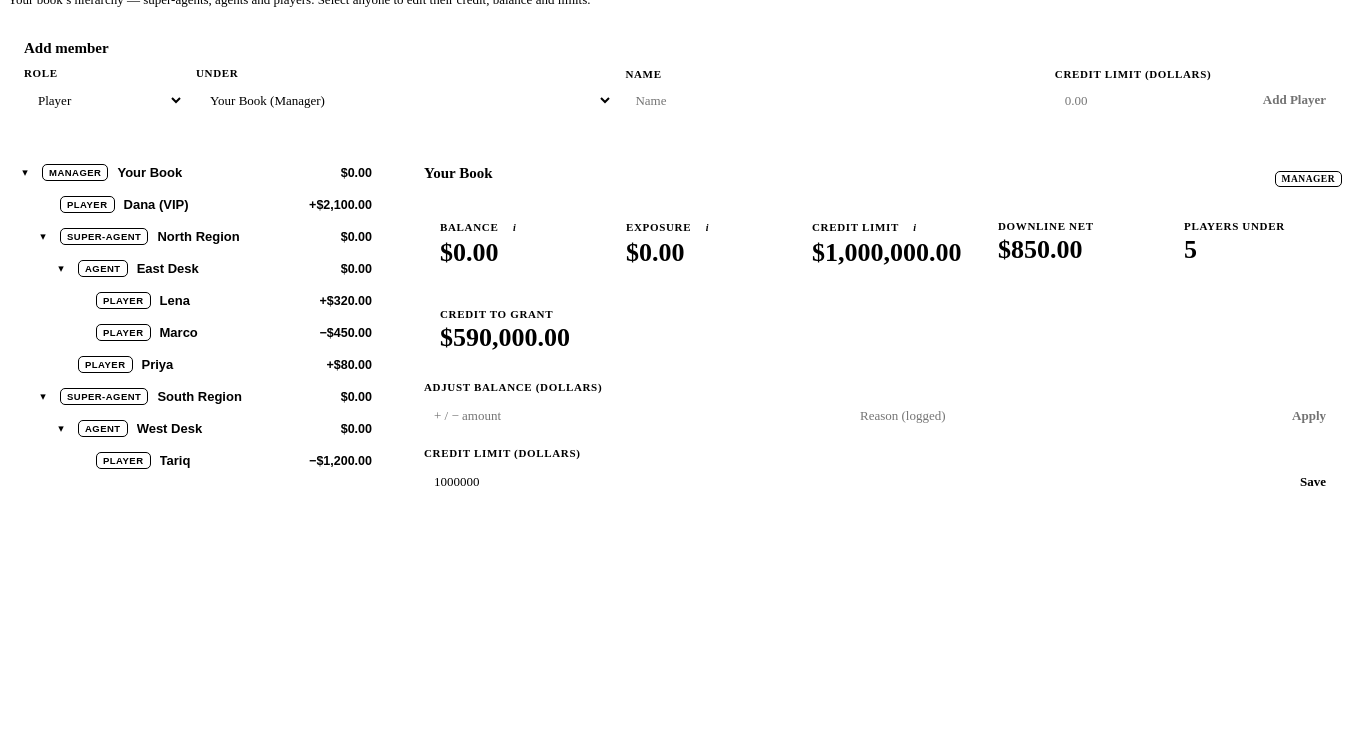
Test: Agents — hierarchy › shows player-only levers for a player, agent-level stats for an agent
A player → max bet + betting lock controls.
Step 1. Click the button with class "agt-rowbtn" showing "Player Dana (VIP) +$2,100.00" → coordinates (87, 204), box [52,189,380,220]
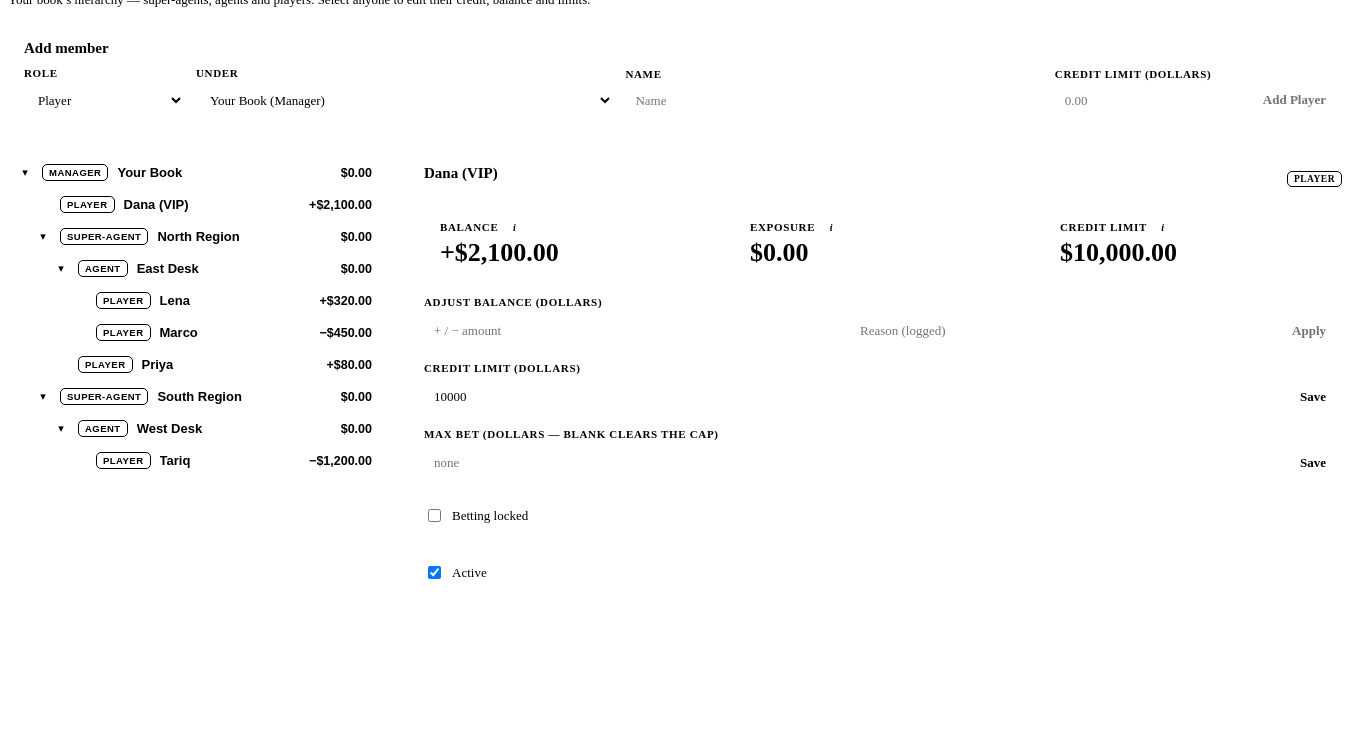
Check: the element with class "agt-detail" shows "Credit limit", box [1060,220,1150,232]
Check: the element with class "agt-detail" shows "Max bet", box [424,428,719,440]
Check: the element with class "agt-detail" shows "Betting locked", box [452,508,528,522]
A super-agent → downline stats, no per-head max bet.
Step 2. Click the button with class "agt-rowbtn" showing "Super-Agent North Region $0.00" → coordinates (216, 236), box [52,221,380,252]
(page scrolled)
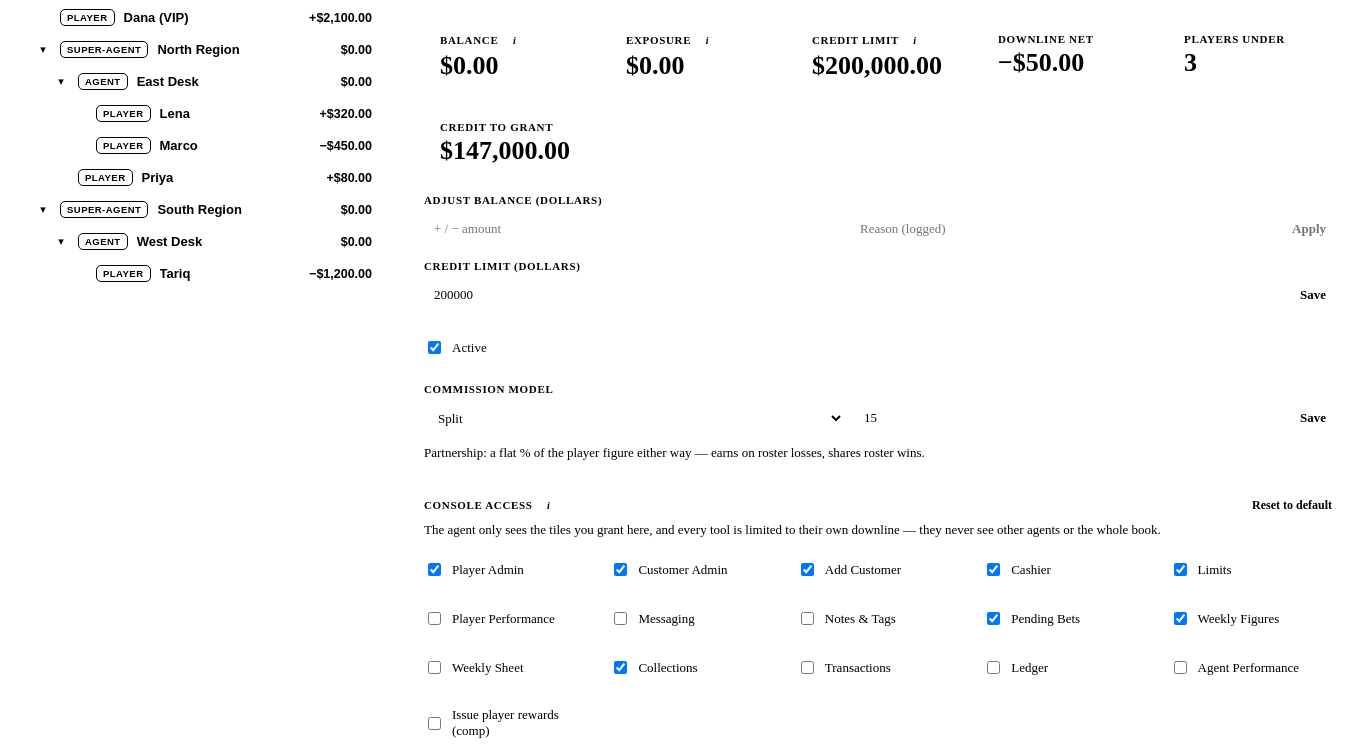
Check: the element with class "agt-detail" shows "Players under", box [1184,33,1285,45]
Check: the text with class "agt-detail" no longer shows "Max bet"
